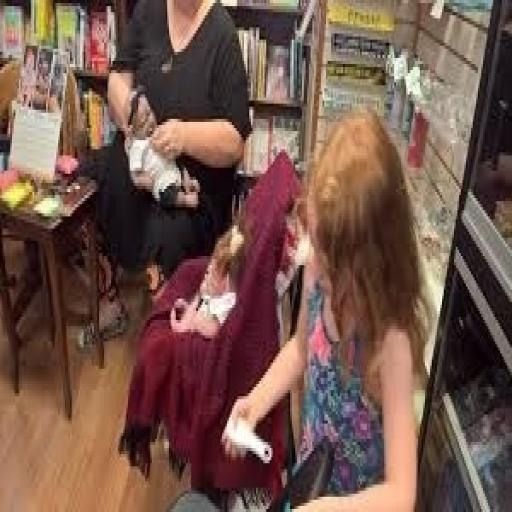sitting: (118, 104, 432, 509)
